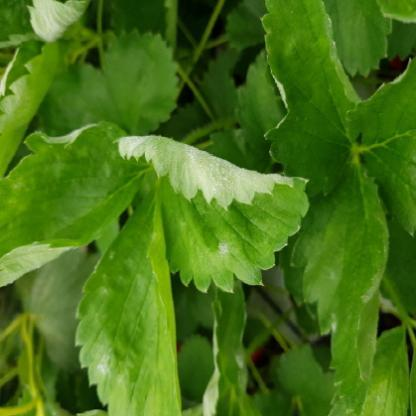Strawberry_Powdery_Mildew_Leaf: (114, 134, 309, 293), (74, 182, 184, 415), (260, 0, 361, 198)
